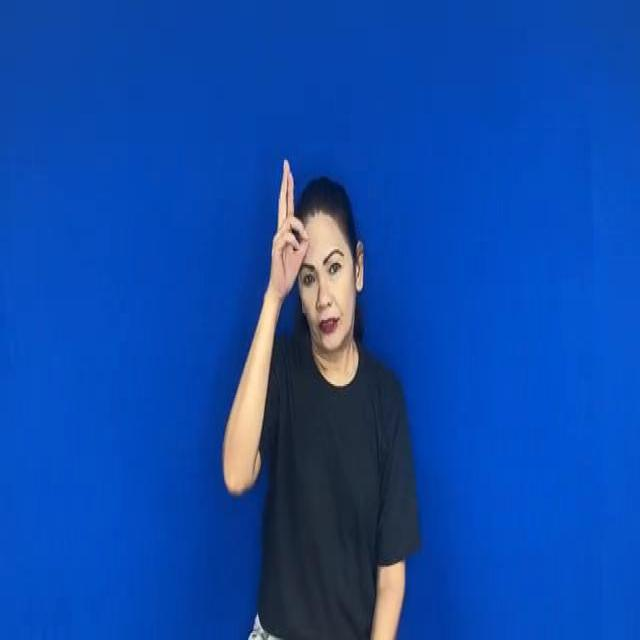chicken: (267, 154, 314, 306)
